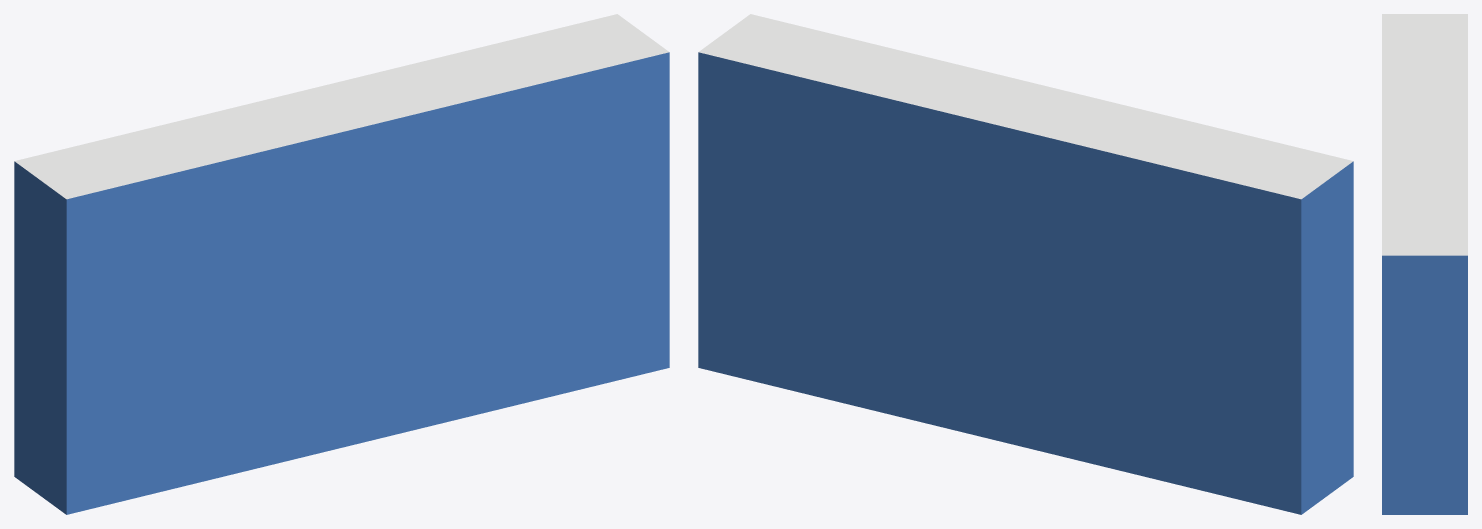
Rendered from parede_complemento_0_5m_1m.glb.
The picture shows the model from 3 angles, left to right: view 1: azimuth 30°, elevation 25°; view 2: azimuth 150°, elevation 25°; view 3: azimuth 270°, elevation 25°; orthographic projection. The views are drawn at different scales.
Parts seen in each view (by area): view 1: parede_complemento_0_5m_1m; view 2: parede_complemento_0_5m_1m; view 3: parede_complemento_0_5m_1m.
Part boxes in pixels (x1,y1,x2,y2): parede_complemento_0_5m_1m: (14, 14, 669, 514); parede_complemento_0_5m_1m: (698, 14, 1353, 514); parede_complemento_0_5m_1m: (1382, 14, 1467, 514).
Size of the model in its own units: 1 by 0.5 by 0.15.
